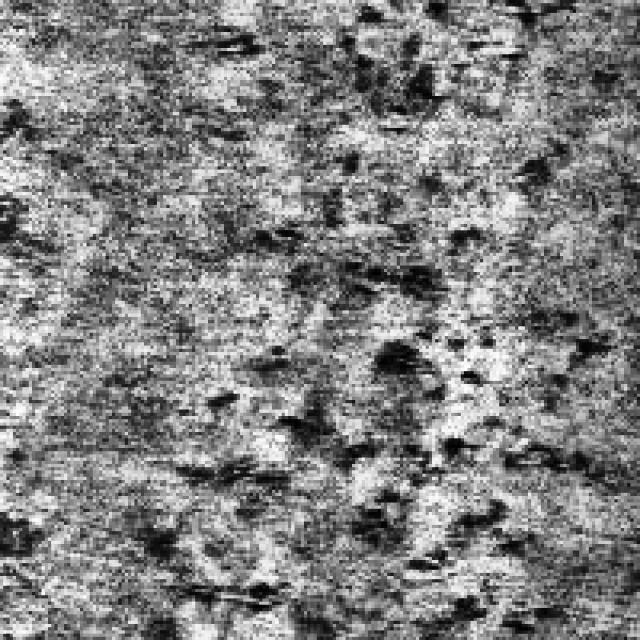Crazing: (288, 141, 582, 634)
